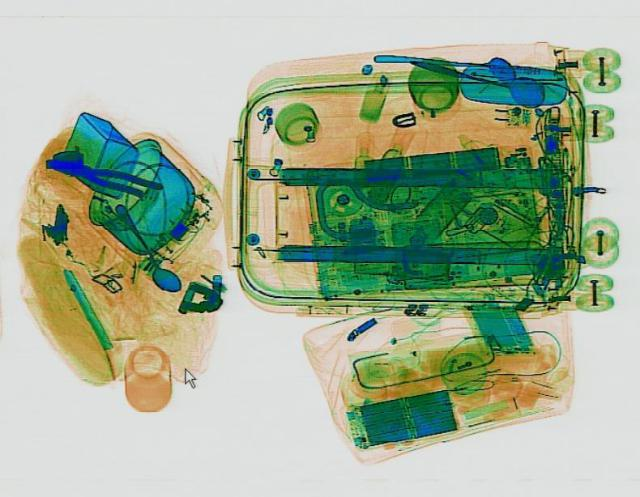Pliers: (37, 150, 163, 201)
